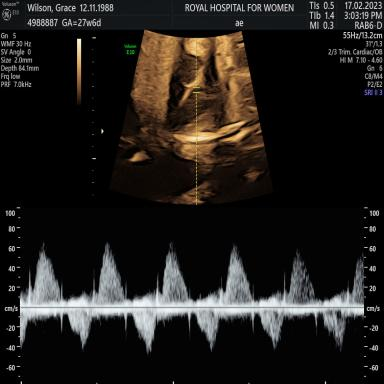Ultrasound-Waves: (24, 215, 364, 384)
